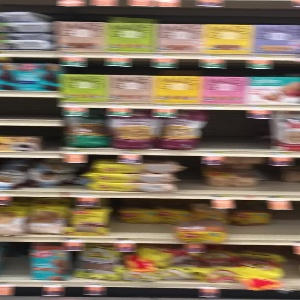void: (205, 110, 271, 152), (1, 96, 61, 124), (1, 238, 29, 283), (36, 122, 65, 155)
